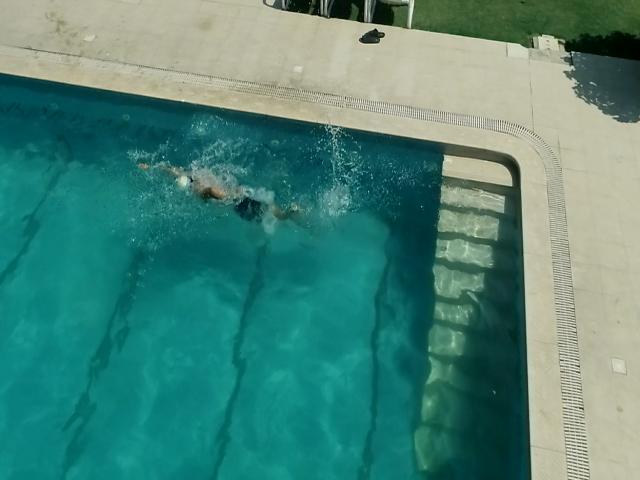swimming: (128, 149, 319, 237)
